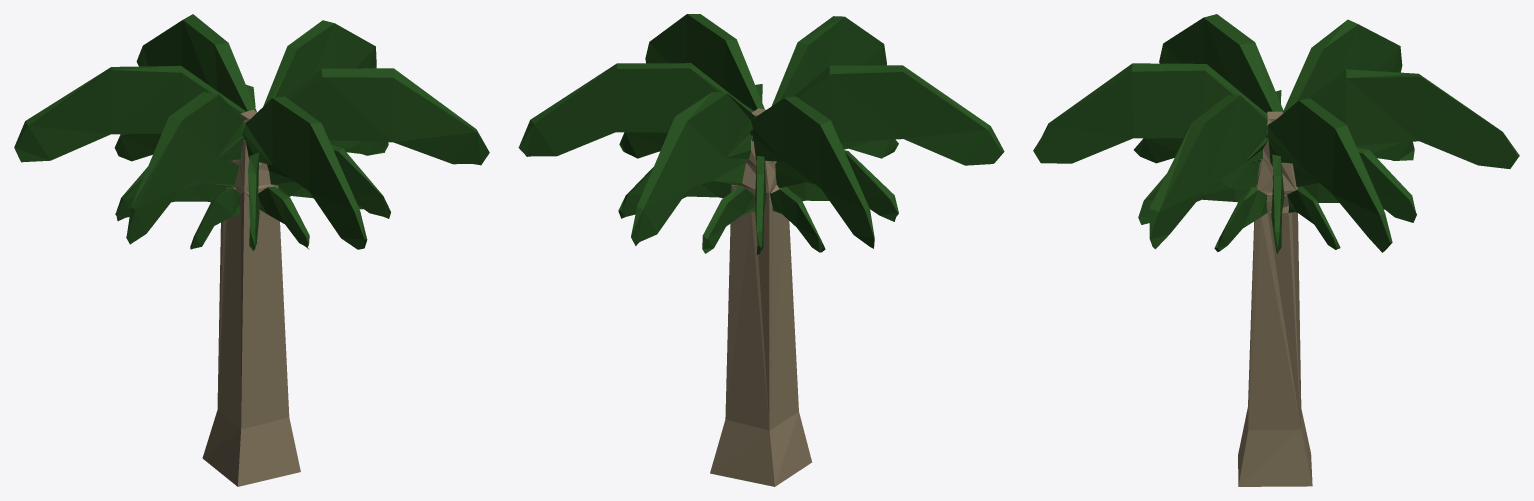
Rendered from desert_tree_4.fbx.
3 renders of one model, left to right at view 1: azimuth 30°, elevation 25°; view 2: azimuth 150°, elevation 25°; view 3: azimuth 270°, elevation 25°, orthographic.
Visible parts, largest first — view 1: desert_tree_4_LOD0; view 2: desert_tree_4_LOD0; view 3: desert_tree_4_LOD0.
Boxes of the visible parts, <box> form: desert_tree_4_LOD0: <box>14,14,489,486</box>; desert_tree_4_LOD0: <box>518,14,1004,486</box>; desert_tree_4_LOD0: <box>1033,14,1519,486</box>.
Size of what is drawn, in the model's own units: 350 by 365 by 400.
